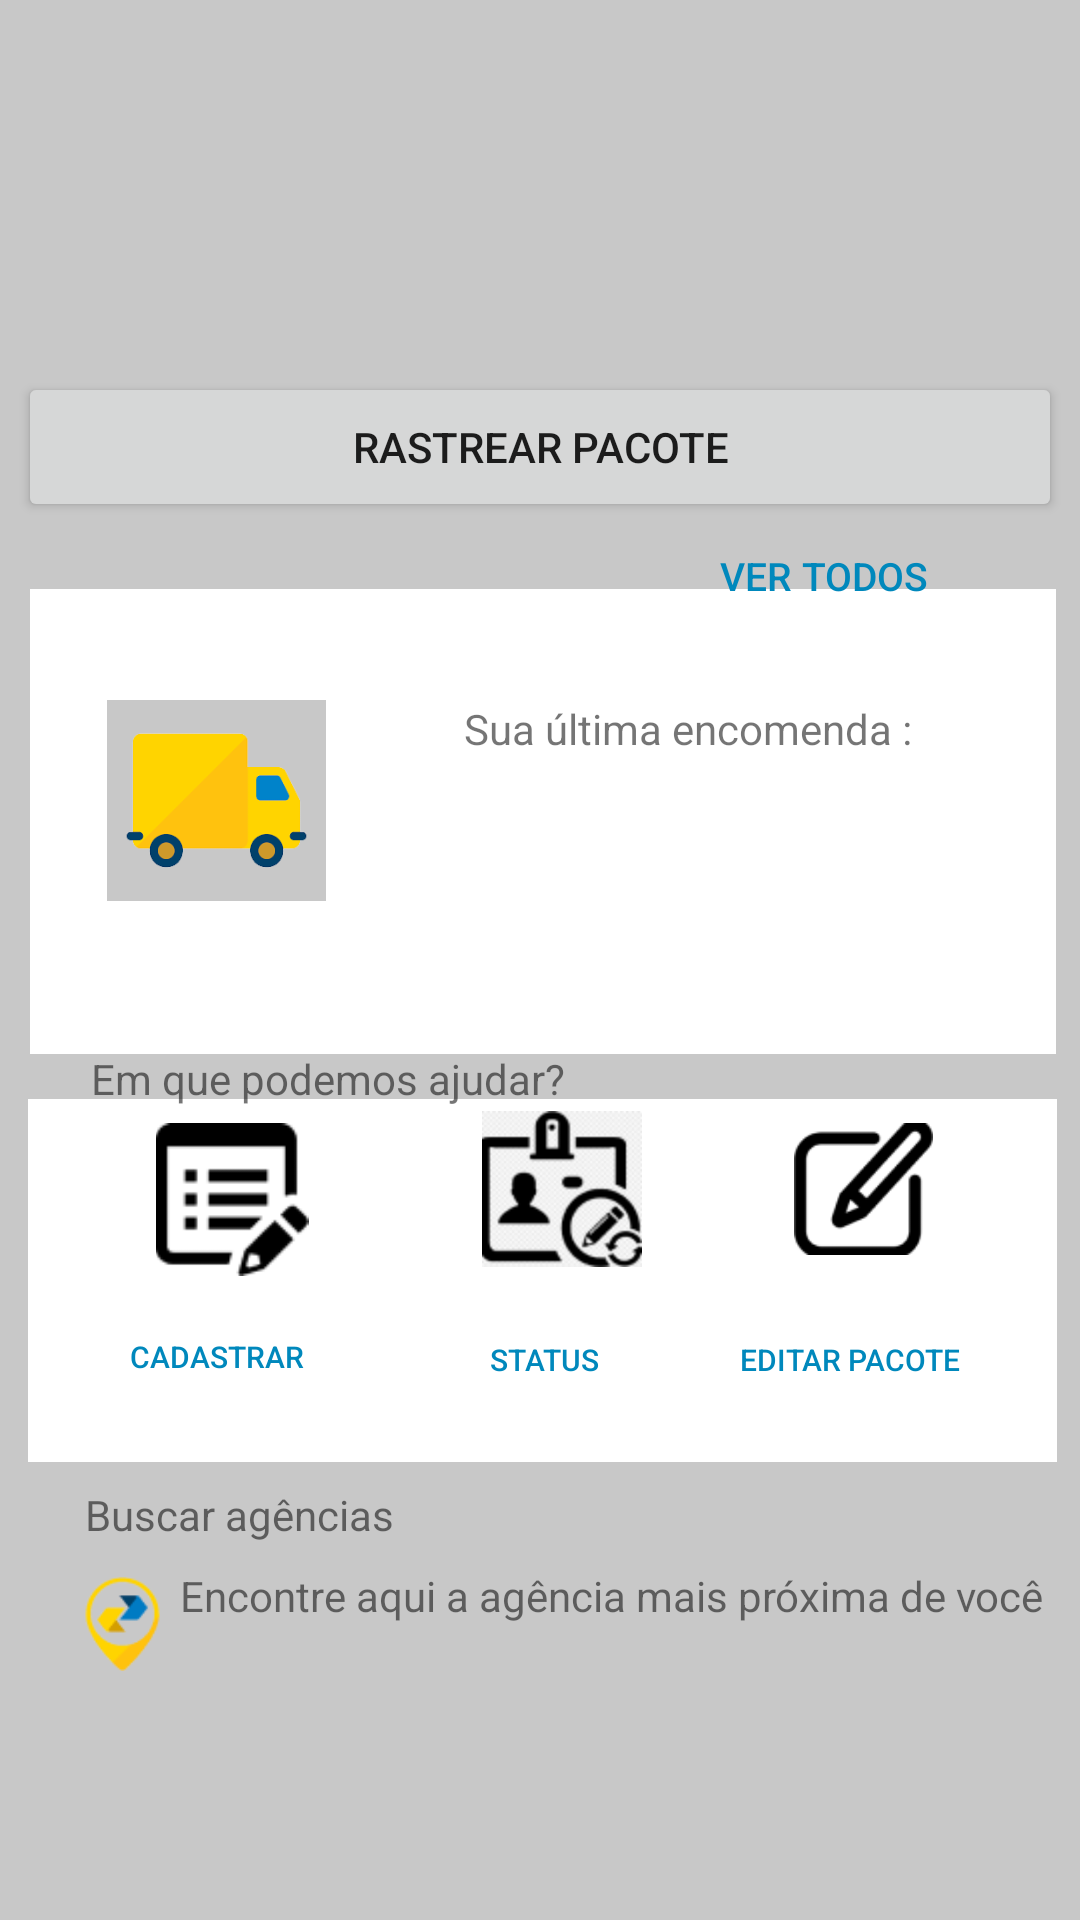

Point at icon controls on the screen. Image size 1080*1920, points as [x,y].
caminhao: [216,800]
